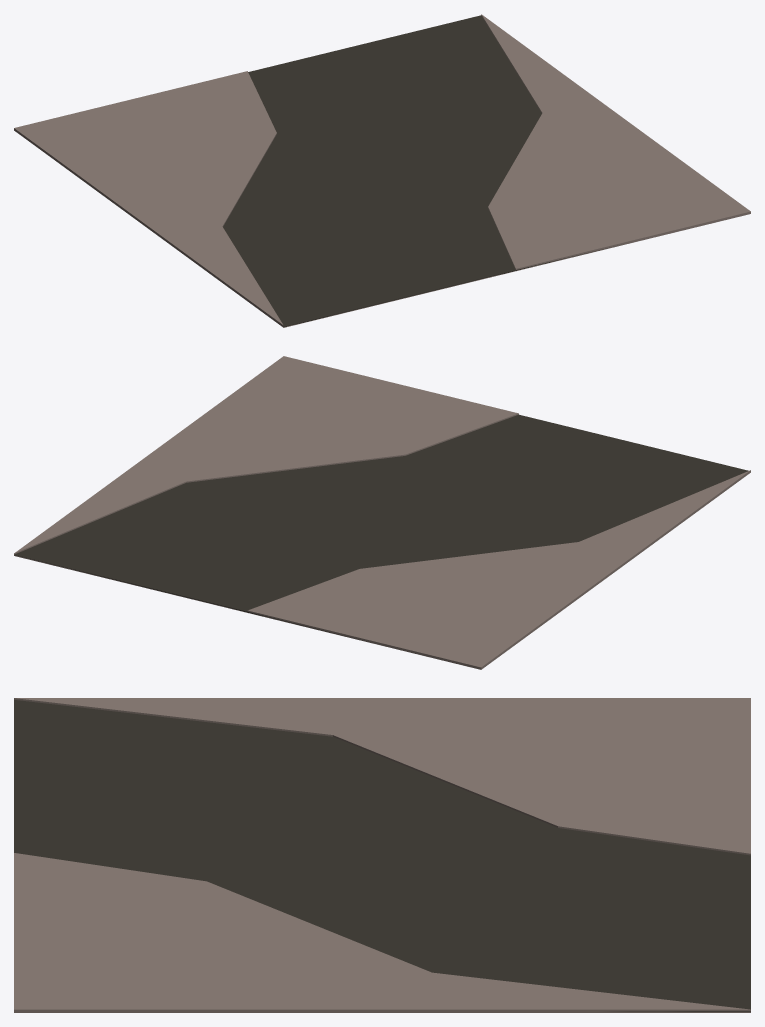
The model's file is Env_3lane_CurveB_col.fbx.
3 views of the same model, one above another, from view 1: azimuth 30°, elevation 25°; view 2: azimuth 150°, elevation 25°; view 3: azimuth 270°, elevation 25° (orthographic). The views are drawn at different scales.
Visible parts, largest first — view 1: Env_3lane_CurveB_col; view 2: Env_3lane_CurveB_col; view 3: Env_3lane_CurveB_col.
Boxes of the visible parts, <box> form: Env_3lane_CurveB_col: <box>14,14,750,327</box>; Env_3lane_CurveB_col: <box>14,356,750,669</box>; Env_3lane_CurveB_col: <box>14,698,750,1012</box>.
Size of the model in its own units: 4000 by 20 by 4000.
